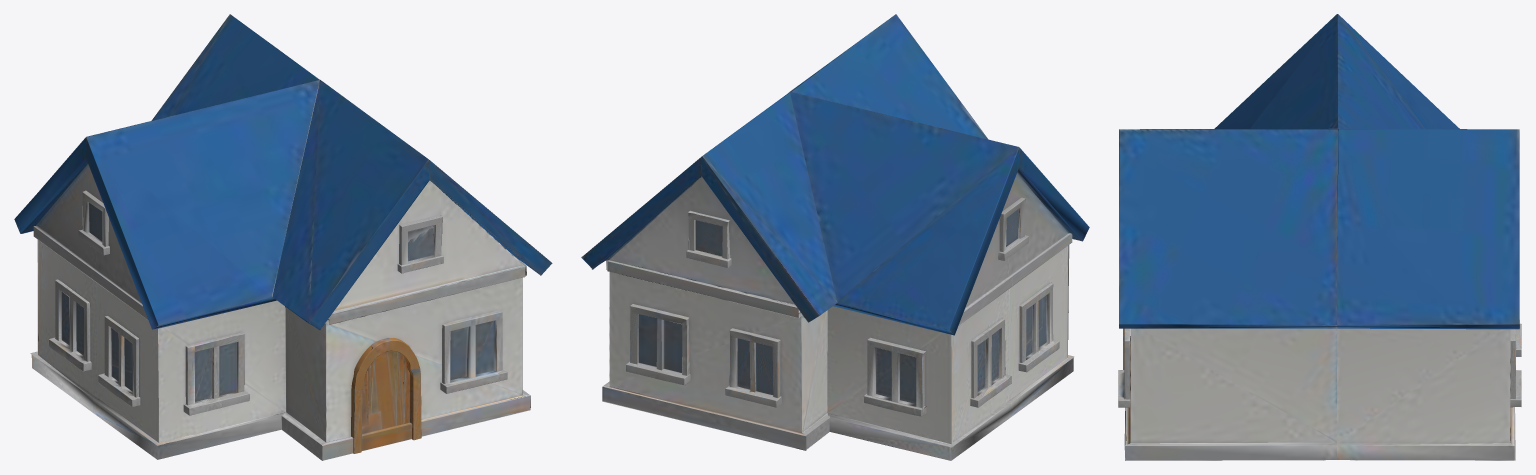
File: 02-small-suburban-house-blue-roof.glb
3 views of the same model, side by side, from view 1: azimuth 30°, elevation 25°; view 2: azimuth 150°, elevation 25°; view 3: azimuth 270°, elevation 25° (orthographic). The views are drawn at different scales.
Visible parts, largest first — view 1: geometry_0; view 2: geometry_0; view 3: geometry_0.
Part boxes in pixels (bbox=[...]): geometry_0: bbox=[14, 14, 552, 460]; geometry_0: bbox=[581, 14, 1089, 460]; geometry_0: bbox=[1118, 14, 1521, 460].
Bounding box in the file's own units: 0.9492 × 0.7075 × 0.9204.
1 material, 1 textured.
